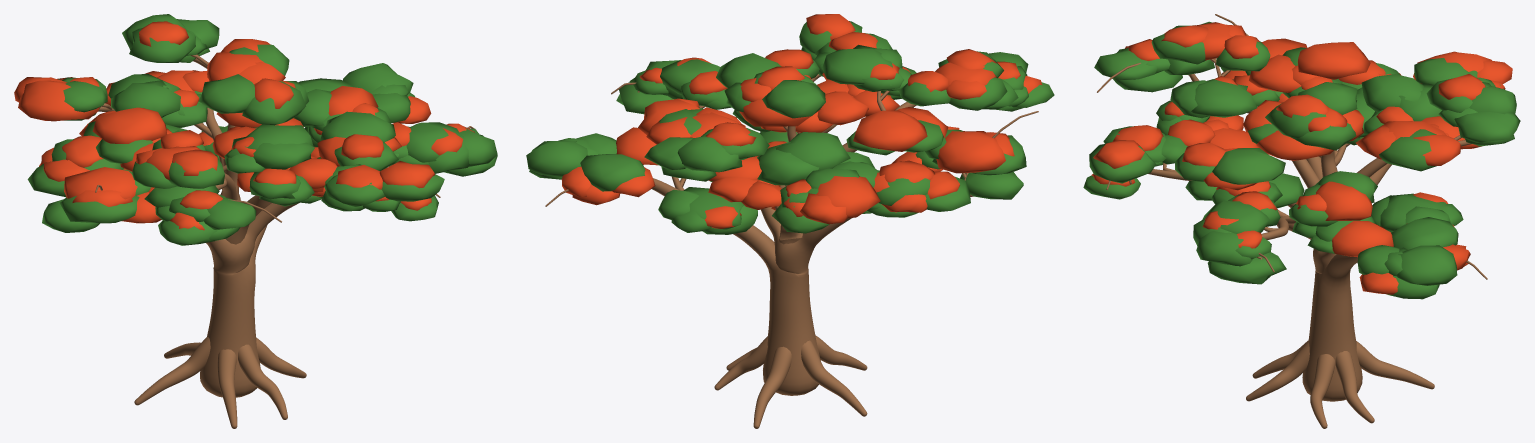
The model's file is flamboyant-a.glb.
3 renders of one model, left to right at view 1: azimuth 30°, elevation 25°; view 2: azimuth 150°, elevation 25°; view 3: azimuth 270°, elevation 25°, orthographic. The views are drawn at different scales.
Parts seen in each view (by area): view 1: foliage, bloom, wood, roots, boughs; view 2: foliage, bloom, wood, roots, boughs; view 3: foliage, bloom, wood, roots, boughs.
Boxes of the visible parts, <box> form: foliage: <box>27,14,497,245</box>; bloom: <box>14,21,474,230</box>; wood: <box>98,58,299,397</box>; roots: <box>134,337,306,428</box>; boughs: <box>95,54,474,222</box>; foliage: <box>526,21,1054,234</box>; bloom: <box>561,14,1042,228</box>; wood: <box>652,76,973,395</box>; roots: <box>714,335,867,428</box>; boughs: <box>545,74,1038,206</box>; foliage: <box>1083,21,1520,299</box>; bloom: <box>1091,22,1512,294</box>; wood: <box>1148,74,1471,401</box>; roots: <box>1246,340,1434,428</box>; boughs: <box>1097,14,1487,279</box>.
Size of the model in its own units: 16.64 by 11.67 by 14.64.
